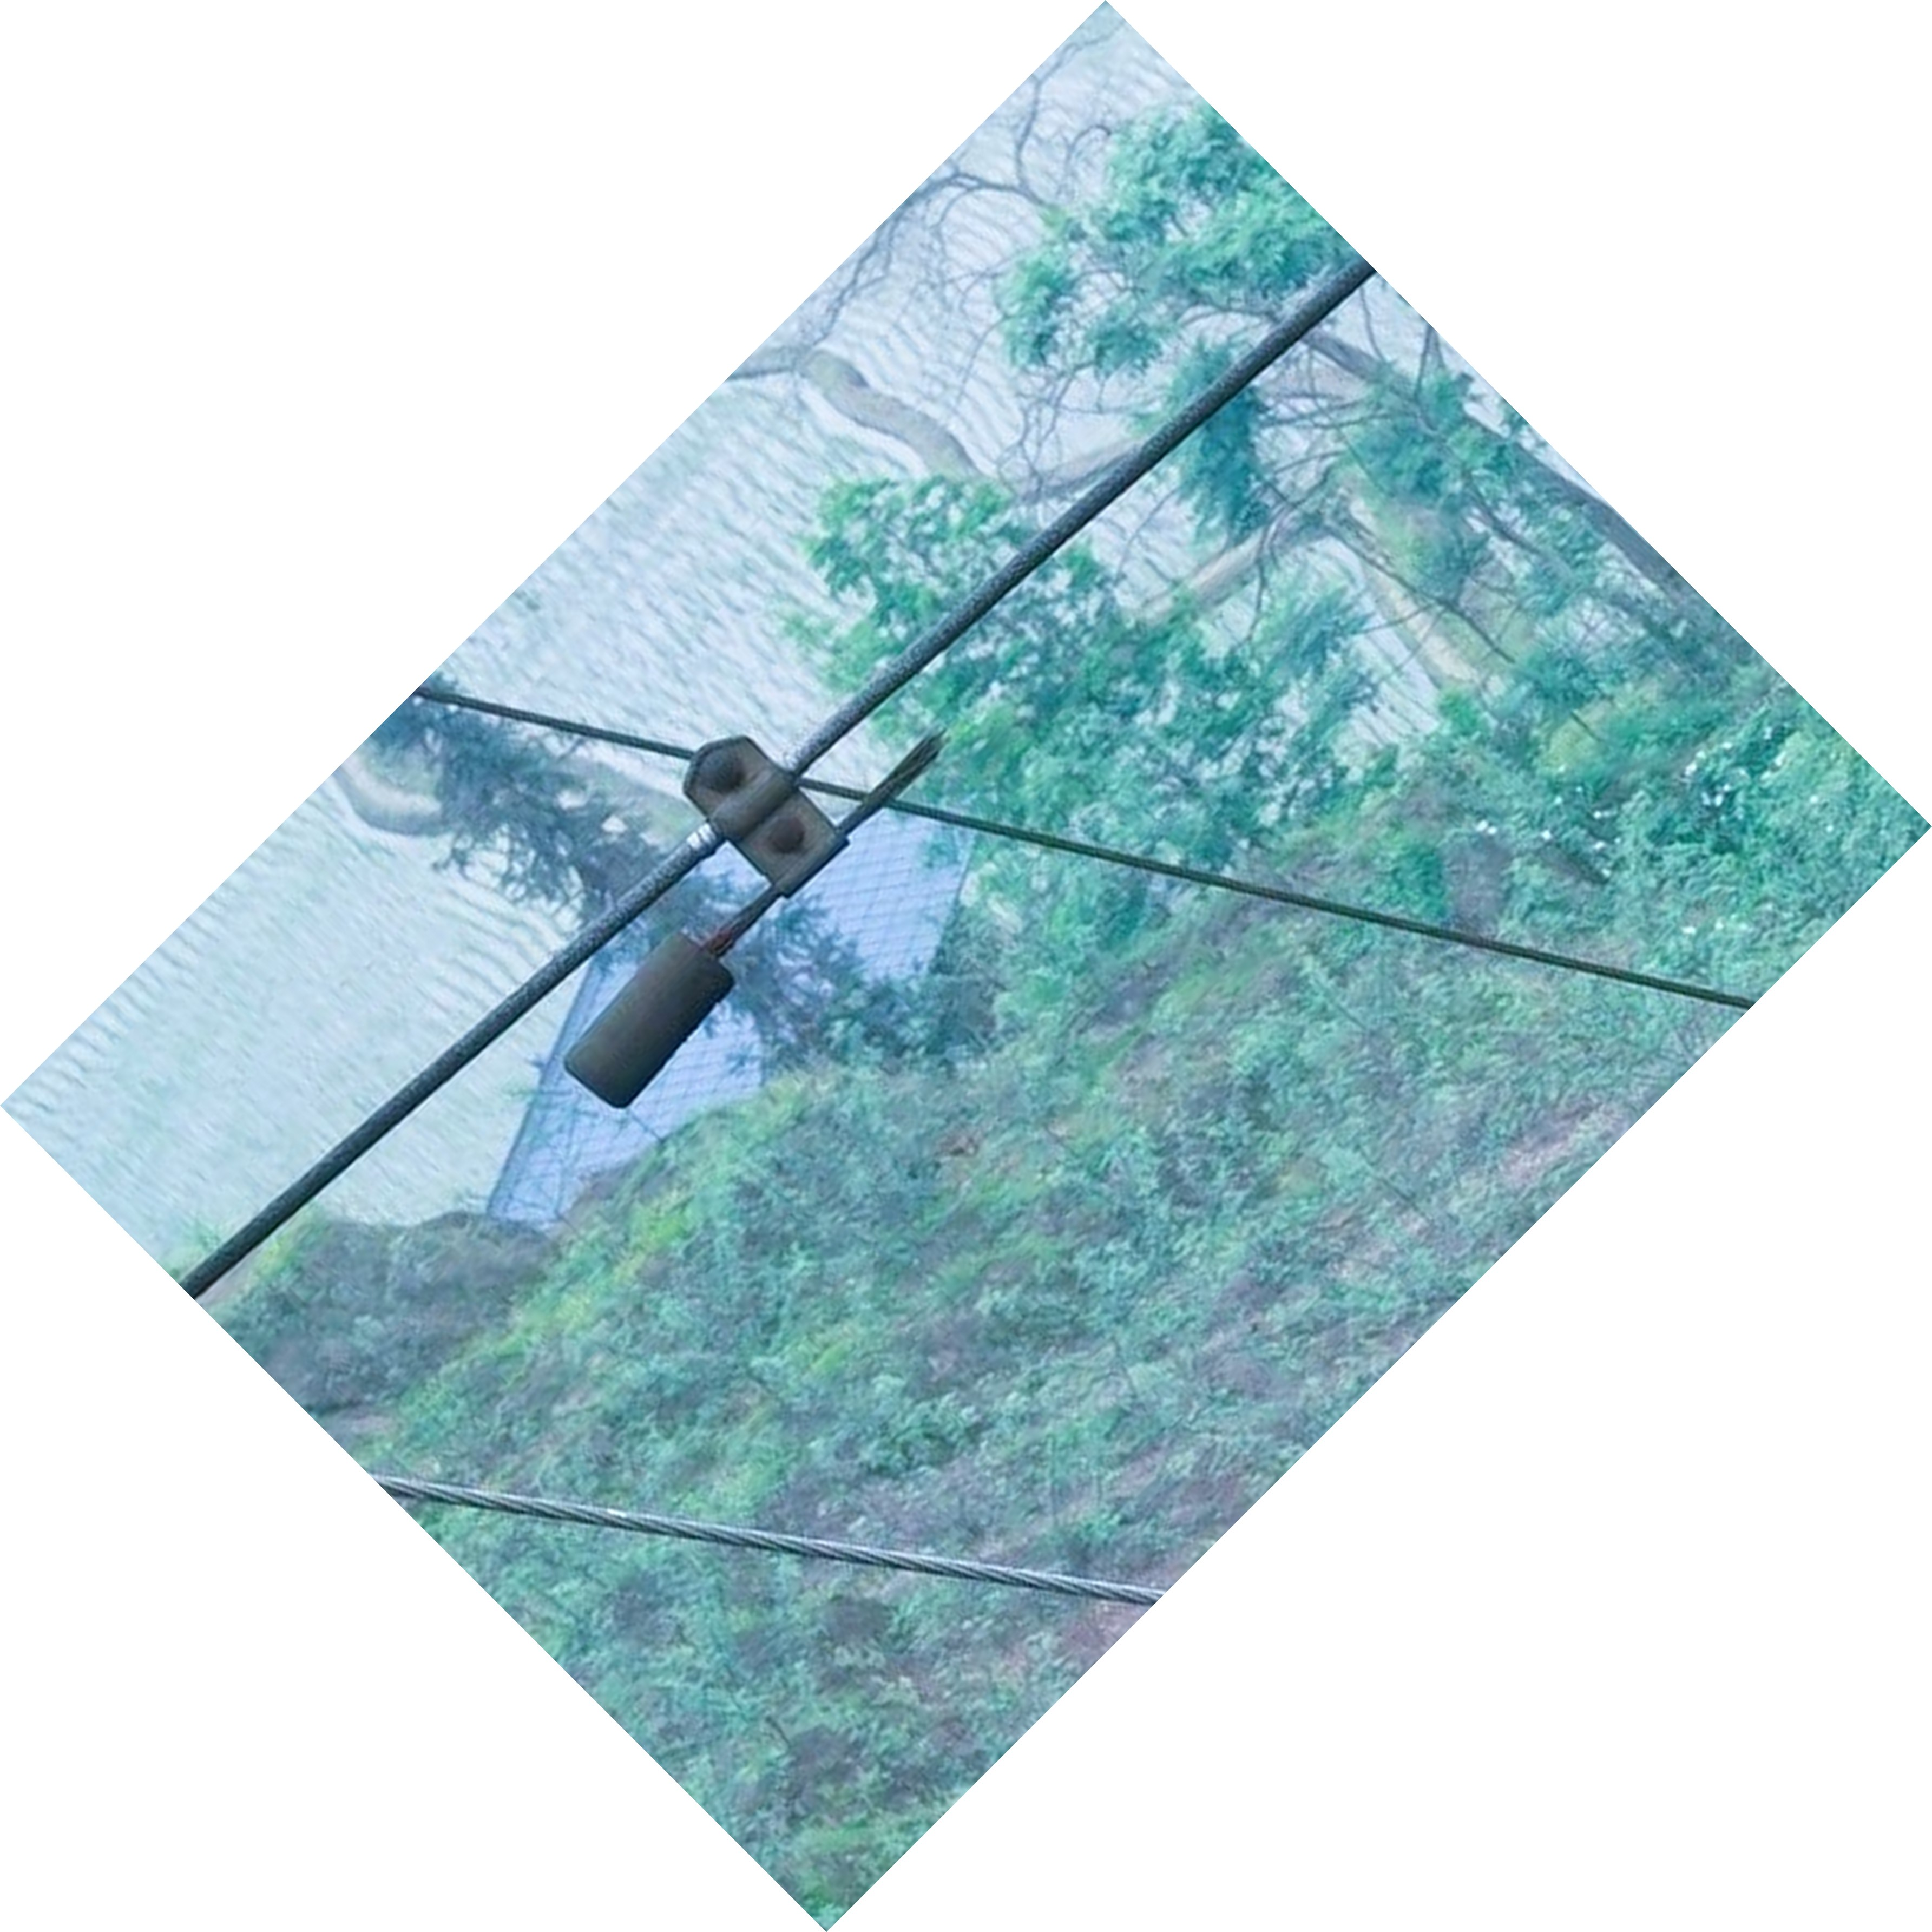Damage of shockproof hammer: (540, 692, 991, 1134)
